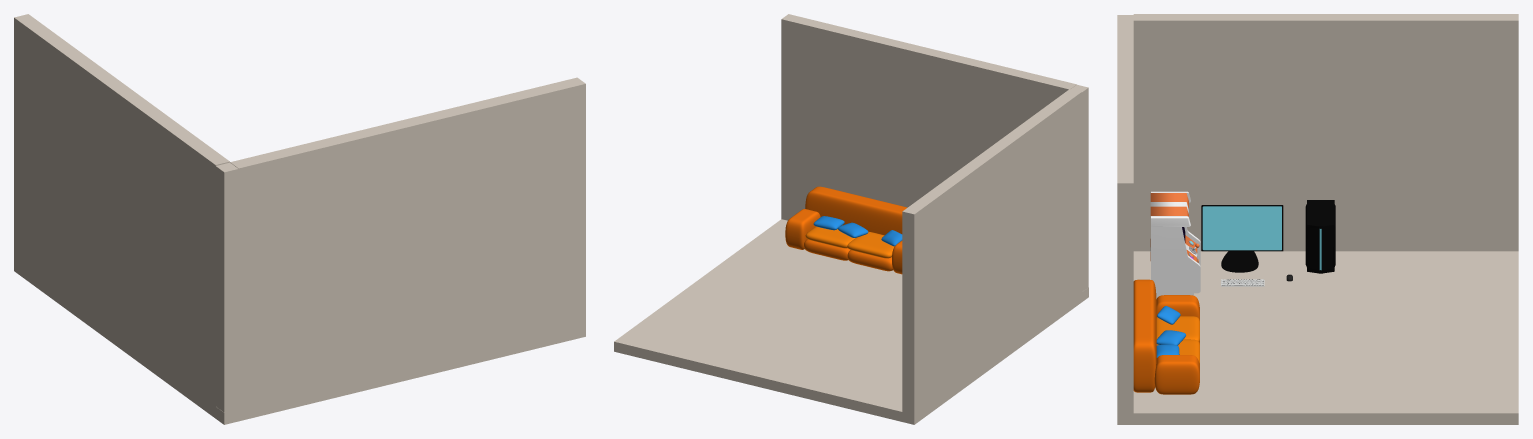
The model's file is modeloFinal.glb.
The picture shows the model from 3 angles, left to right: view 1: azimuth 30°, elevation 25°; view 2: azimuth 150°, elevation 25°; view 3: azimuth 270°, elevation 25°; orthographic projection. The views are drawn at different scales.
Parts seen in each view (by area): view 1: Cube; view 2: Cube, Cube.004; view 3: Cube, Cube.004, Monitor_Ordenador, Plane, Caja_ordenador, Plane.002, Soporte_ordenador.
Part boxes in pixels (box(x1,y1,x2,y2)): Cube: box(14, 14, 585, 424); Cube: box(614, 14, 1088, 424); Cube.004: box(785, 186, 907, 274); Cube: box(1117, 14, 1518, 424); Cube.004: box(1133, 279, 1199, 394); Monitor_Ordenador: box(1201, 205, 1283, 251); Plane: box(1151, 216, 1200, 298); Caja_ordenador: box(1305, 200, 1335, 273); Plane.002: box(1150, 193, 1197, 261); Soporte_ordenador: box(1221, 251, 1258, 272).
Bounding box in the file's own units: 16.96 × 11.36 × 17.07.
